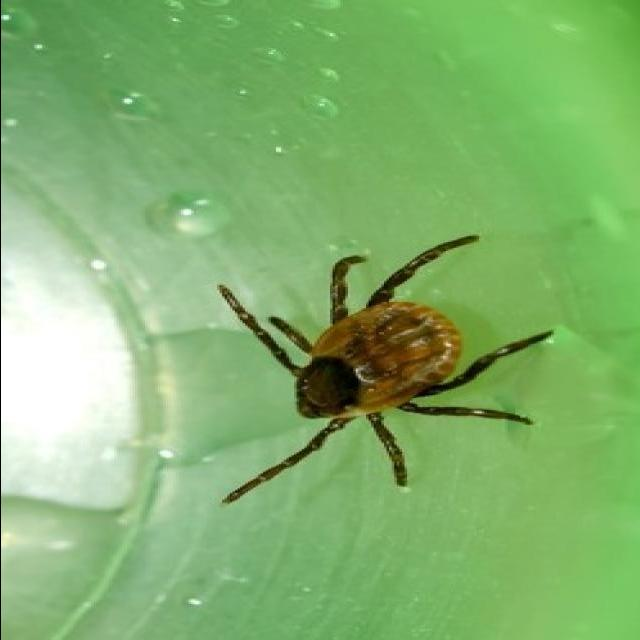Rhipicephalus Sanguineus-F: (218, 234, 553, 503)
